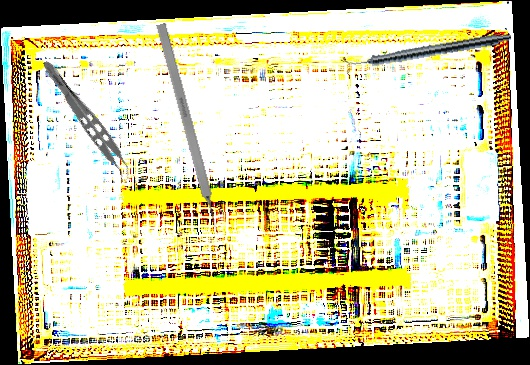Handpiece: (340, 28, 513, 73)
Hook Surgical: (155, 22, 223, 237)
Tissue Forceps: (32, 58, 139, 185)
